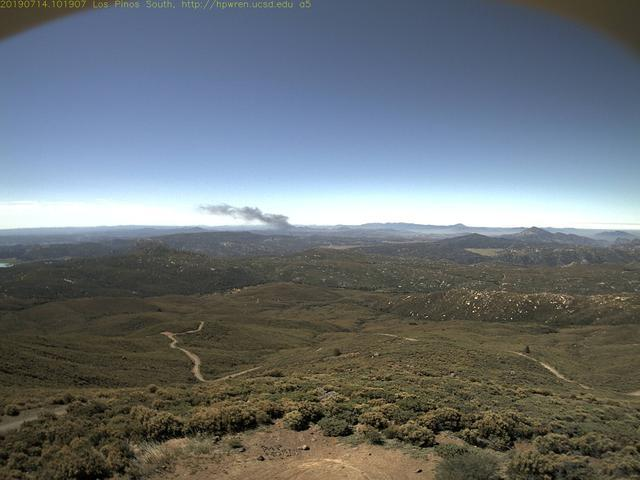smoke: (194, 201, 299, 237)
